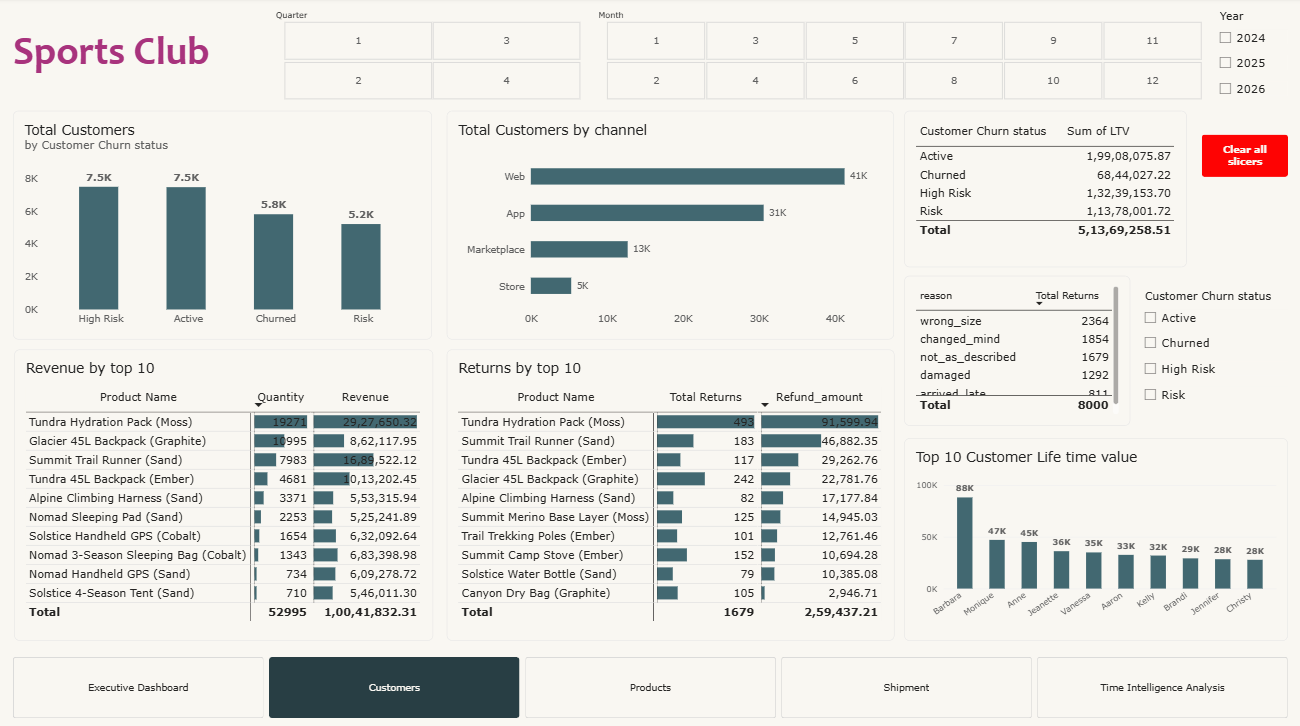

The page's visual inventory and layout, read from the dashboard file:
{"tool":"powerbi","page":{"name":"Customers","canvas":[1920,1080],"ordinal":1},"visuals":[{"type":"textbox","box":[22.1,42.3,318.1,107.9],"z":0},{"type":"slicer","fields":{"Values":["orders.Year"]},"box":[1790.8,18.4,107.9,149.6],"z":1000},{"type":"slicer","fields":{"Values":["orders.Month"]},"box":[876.1,18.4,914.7,134.4],"z":2000},{"type":"slicer","fields":{"Values":["orders.Quarter"]},"box":[401.2,18.4,474.8,134.4],"z":3000},{"type":"actionButton","box":[1772,203,127.1,62.6],"z":4000},{"type":"columnChart","fields":{"Category":["customers.Customer Churn status"],"Y":["Key Measures.Total Customers"]},"box":[22.1,167.5,616.6,336.8],"z":5000},{"type":"tableEx","fields":{"Values":["customers.Customer Churn status","Sum(customers.LTV)"]},"box":[1334.4,167.5,416,230.1],"z":6000},{"type":"barChart","title":"Total Customers by channel","fields":{"Category":["orders.channel"],"Y":["CountNonNull(orders.channel)"]},"box":[660.7,167.5,658.4,336.8],"z":7000},{"type":"pivotTable","title":"Revenue by top 10","fields":{"Rows":["products.product_name"],"Values":["Key Measures.Quantity","Key Measures.Line Total"]},"box":[23.9,519,616.6,428.8],"z":8000},{"type":"pivotTable","title":"Returns by top 10","fields":{"Rows":["products.product_name"],"Values":["Key Measures.Total Returns","Sum(returns.refund_amount)"]},"box":[660.7,519,658.9,428.8],"z":9000},{"type":"slicer","fields":{"Values":["customers.Customer Churn status"]},"box":[1680.4,430.7,219,174.8],"z":10000},{"type":"columnChart","title":"Top 10 Customer Life time value","fields":{"Category":["customers.first_name"],"Y":["Sum(customers.LTV)"]},"box":[1334.4,649.7,565,298.2],"z":11000},{"type":"tableEx","fields":{"Values":["returns.reason","Key Measures.Total Returns"]},"box":[1334.4,410.4,333.1,220.9],"z":12000},{"type":"pageNavigator","box":[22.1,971.8,1877.3,90.2],"z":12001}]}

Visuals, with their boxes in screenshot pixels (x1, y1, x2, y2), scaled from the page's 1920x1080 canvas onto the 1300x726 screenshot:
textbox: 15 28 230 101
slicer - orders.Year: 1213 12 1286 113
slicer - orders.Month: 593 12 1213 103
slicer - orders.Quarter: 272 12 593 103
actionButton: 1200 136 1286 179
columnChart - customers.Customer Churn status x Key Measures.Total Customers: 15 113 432 339
tableEx - customers.Customer Churn status x Sum(customers.LTV): 904 113 1185 267
"Total Customers by channel" barChart: 447 113 893 339
"Revenue by top 10" pivotTable: 16 349 434 637
"Returns by top 10" pivotTable: 447 349 893 637
slicer - customers.Customer Churn status: 1138 290 1286 407
"Top 10 Customer Life time value" columnChart: 904 437 1286 637
tableEx - returns.reason x Key Measures.Total Returns: 904 276 1129 424
pageNavigator: 15 653 1286 714
